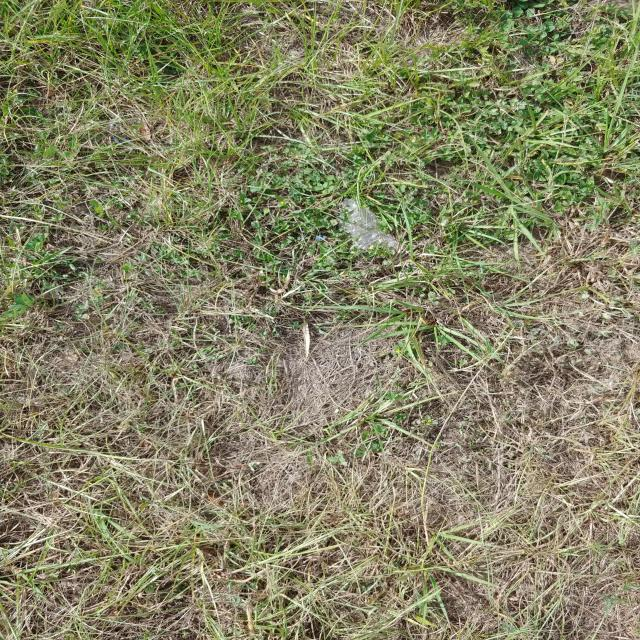litter: (334, 199, 398, 251)
